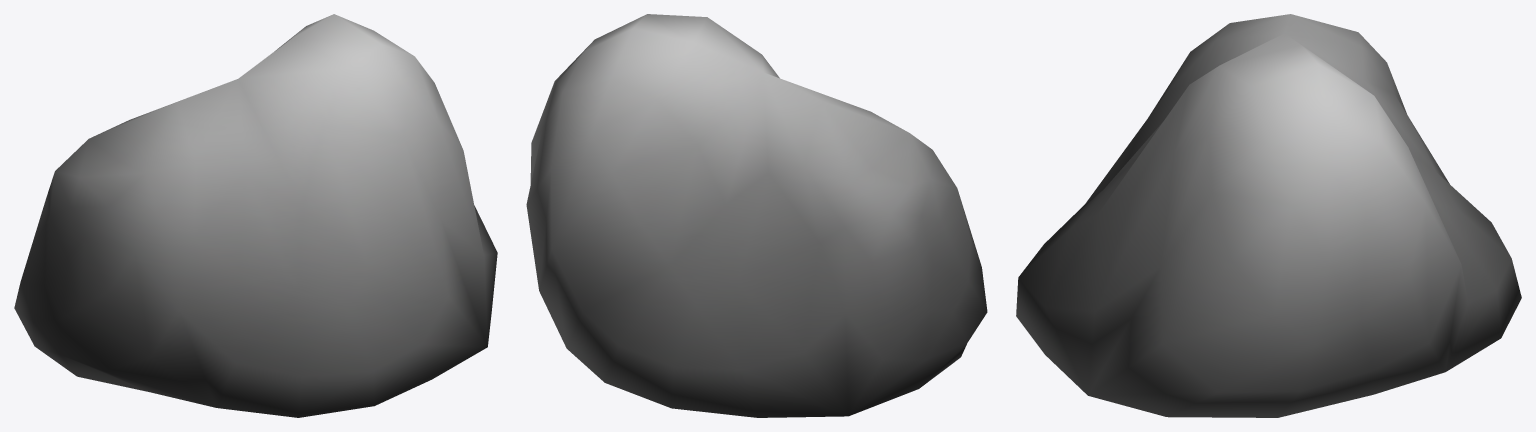
The model's file is RockMesh.fbx.
3 views of the same model, side by side, from view 1: azimuth 30°, elevation 25°; view 2: azimuth 150°, elevation 25°; view 3: azimuth 270°, elevation 25° (orthographic). The views are drawn at different scales.
Visible parts, largest first — view 1: RockMesh; view 2: RockMesh; view 3: RockMesh.
Part boxes in pixels (x1,y1,x2,y2): RockMesh: (14, 14, 497, 417); RockMesh: (526, 14, 987, 417); RockMesh: (1016, 14, 1521, 417).
Size of the model in its own units: 231 by 143 by 215.
